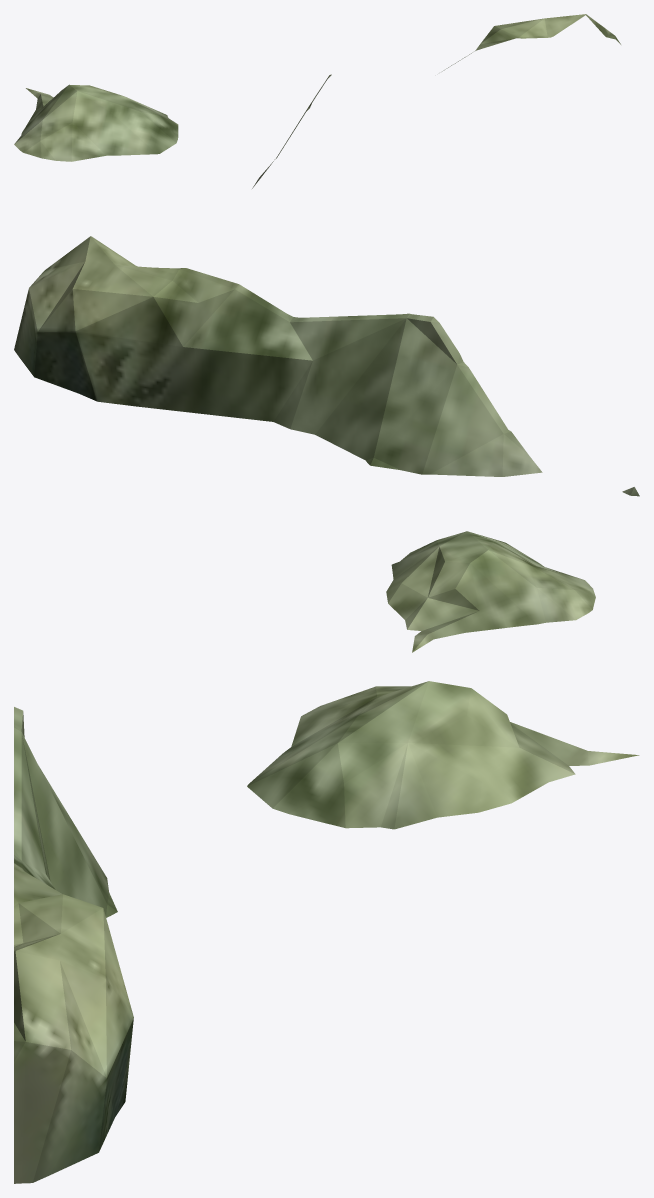
3 renders of one model, top to bottom at view 1: azimuth 30°, elevation 25°; view 2: azimuth 150°, elevation 25°; view 3: azimuth 270°, elevation 25°, orthographic. The views are drawn at different scales.
Size of the model in its own units: 2.19 by 0.3858 by 1.18.
Materials: 1 (1 with a texture image).
